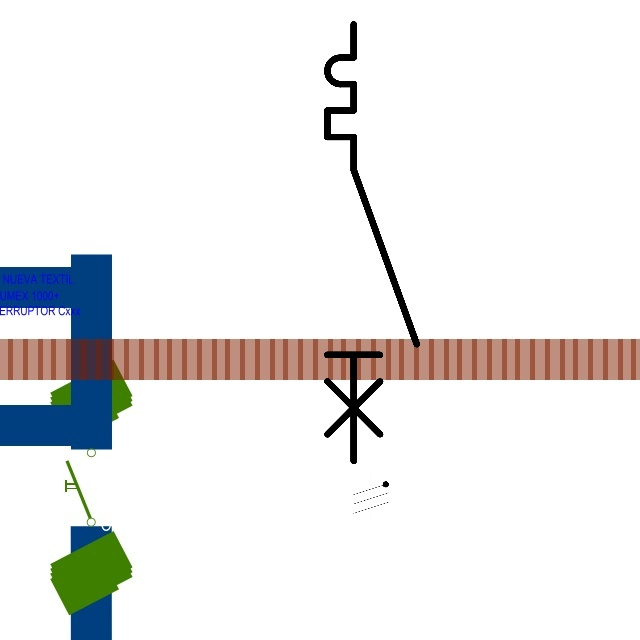interruptor_termomagnetico: (316, 13, 428, 472)
